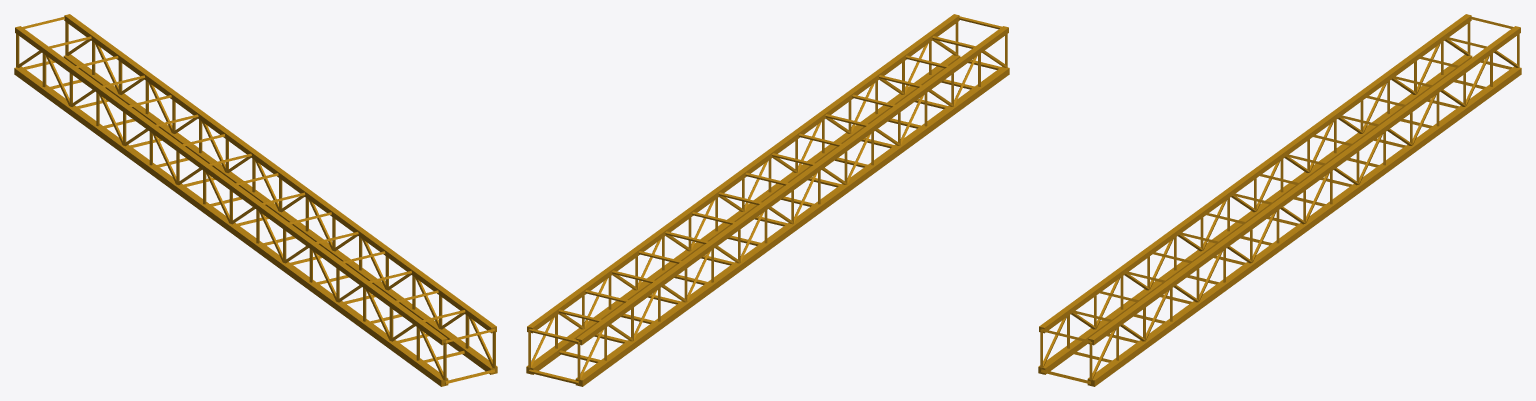
File: crane-boom.glb
The picture shows the model from 3 angles, left to right: view 1: azimuth 30°, elevation 25°; view 2: azimuth 150°, elevation 25°; view 3: azimuth 330°, elevation 25°; orthographic projection.
Parts seen in each view (by area): view 1: crane-boom; view 2: crane-boom; view 3: crane-boom.
Part boxes in pixels (x1,y1,x2,y2): crane-boom: [14, 14, 497, 386]; crane-boom: [526, 14, 1009, 386]; crane-boom: [1038, 14, 1521, 386].
Size of the model in its own units: 5.5 by 4.35 by 72.33.
